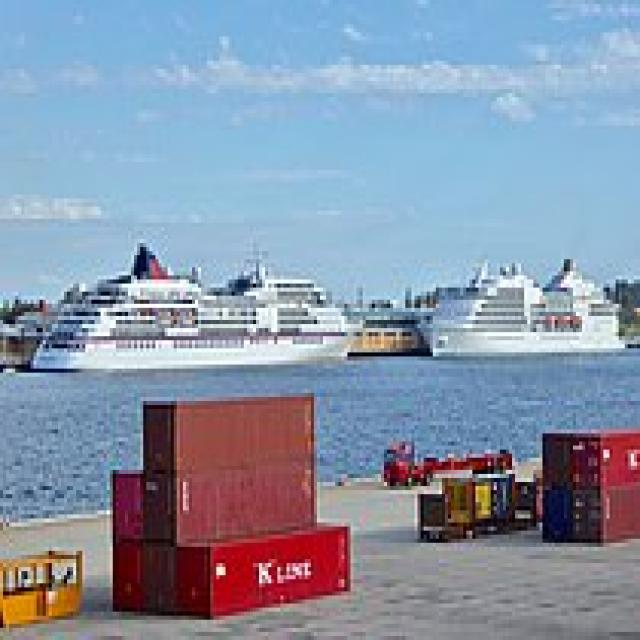Cruise: (21, 235, 366, 373), (411, 243, 622, 361)
